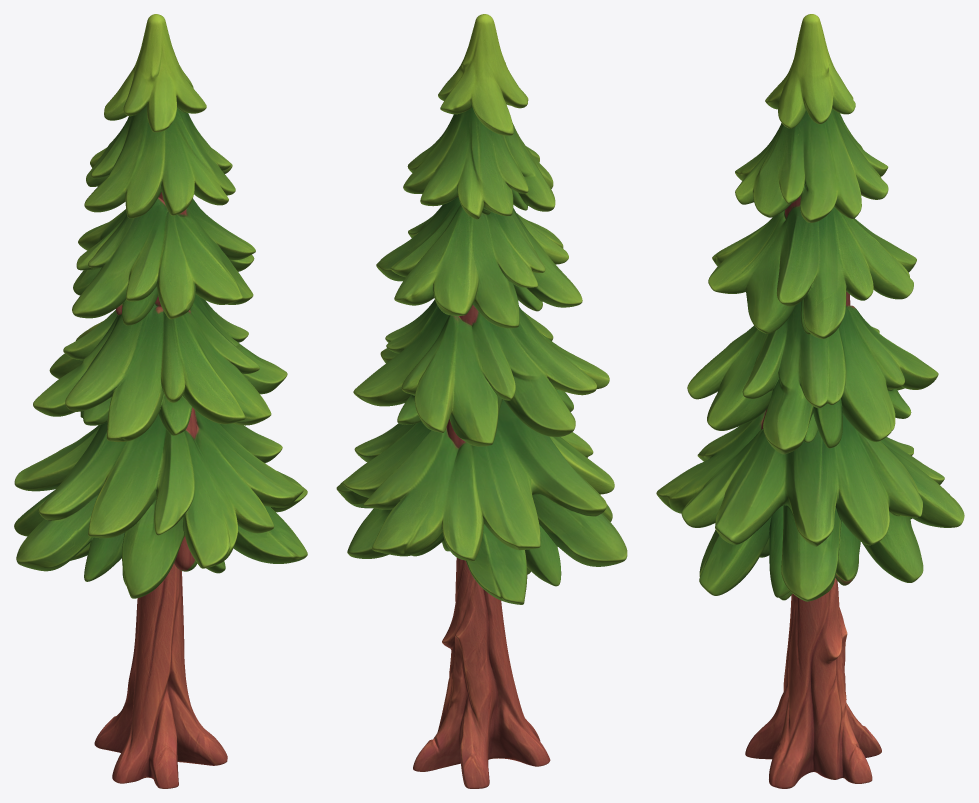
The model's file is pine-narrow-spire-01.glb.
3 renders of one model, left to right at view 1: azimuth 30°, elevation 25°; view 2: azimuth 150°, elevation 25°; view 3: azimuth 270°, elevation 25°, orthographic.
Bounding box in the file's own units: 0.7715 × 1.9 × 0.7108.
Materials: 1 (1 with a texture image).
